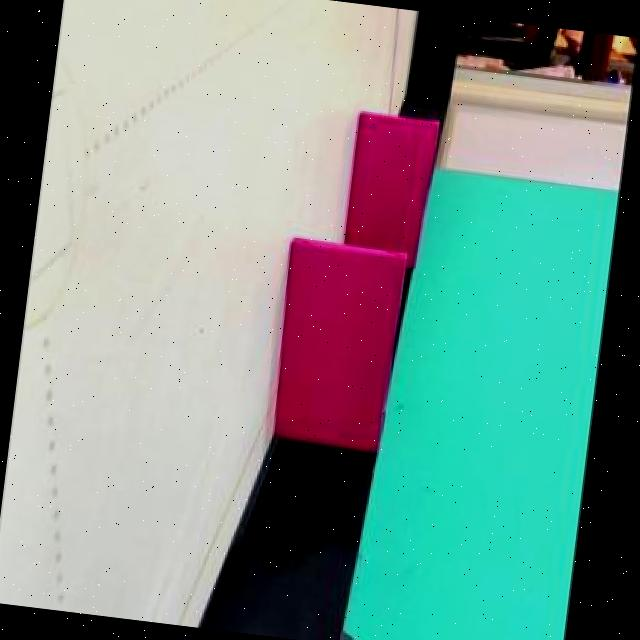xparking: (274, 240, 399, 442), (344, 116, 434, 252)
